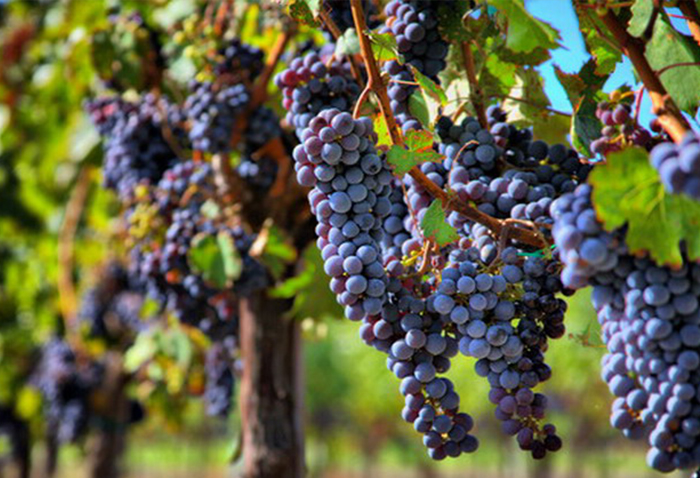Black grapes: (302, 113, 391, 323), (604, 254, 695, 439), (435, 255, 520, 378)
